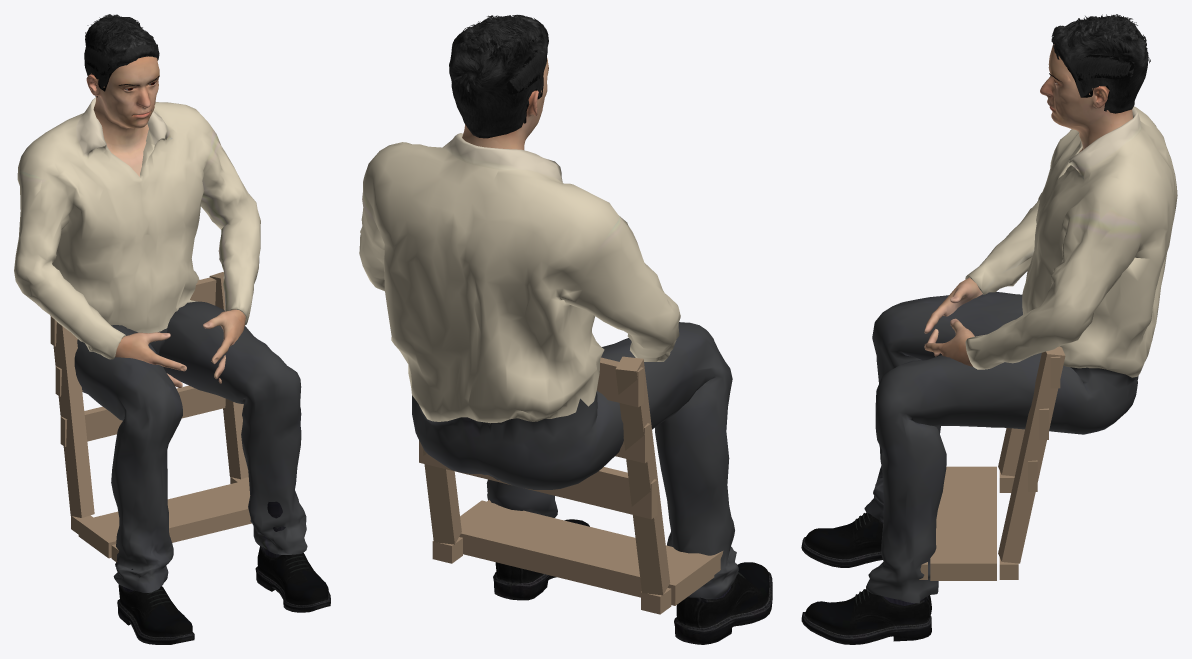
The model's file is seated-man-1951-c.glb.
3 renders of one model, left to right at view 1: azimuth 30°, elevation 25°; view 2: azimuth 150°, elevation 25°; view 3: azimuth 270°, elevation 25°, orthographic. The views are drawn at different scales.
Parts seen in each view (by area): view 1: Human.male_shirt1951c.001, chair, Human.001, Human.shoes03.001, Human.short01.001; view 2: Human.male_shirt1951c.001, chair, Human.short01.001, Human.shoes03.001, Human.001; view 3: Human.male_shirt1951c.001, chair, Human.shoes03.001, Human.short01.001, Human.001.
Part boxes in pixels (<box>): Human.male_shirt1951c.001: <box>14,97,307,592</box>; chair: <box>50,272,251,562</box>; Human.001: <box>86,56,245,387</box>; Human.shoes03.001: <box>117,501,330,644</box>; Human.short01.001: <box>84,14,159,97</box>; Human.male_shirt1951c.001: <box>359,133,738,599</box>; chair: <box>419,356,723,614</box>; Human.short01.001: <box>449,14,548,138</box>; Human.shoes03.001: <box>493,519,772,644</box>; Human.001: <box>462,58,548,149</box>; Human.male_shirt1951c.001: <box>864,106,1177,603</box>; chair: <box>919,346,1065,580</box>; Human.shoes03.001: <box>801,512,931,644</box>; Human.short01.001: <box>1051,14,1150,113</box>; Human.001: <box>924,44,1132,366</box>.
Size of the model in its own units: 0.7142 by 1.47 by 0.8703.
Materials: 7 (6 with a texture image).
